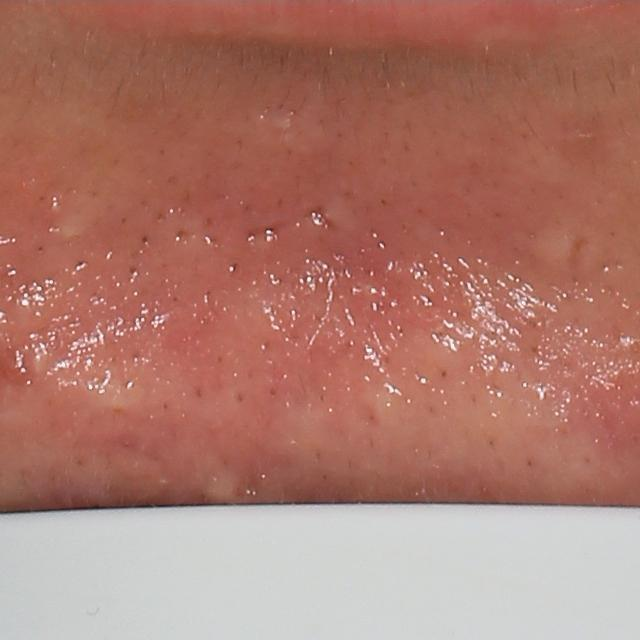atrophic_scar: (304, 202, 342, 232), (566, 232, 586, 283), (259, 222, 284, 246)
hypertrophic_scar: (248, 350, 604, 485), (218, 83, 340, 170), (193, 275, 307, 358), (34, 361, 178, 423), (175, 446, 252, 502), (54, 201, 95, 243), (531, 228, 576, 265)
